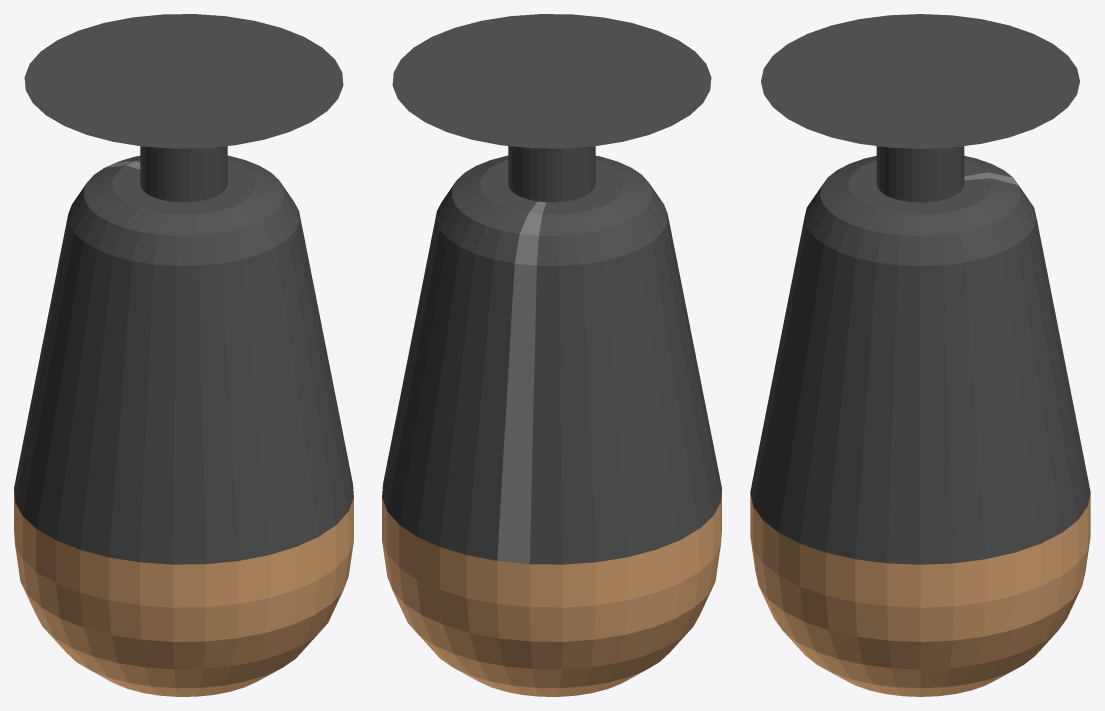
File: Light Bulb.fbx
3 views of the same model, side by side, from view 1: azimuth 30°, elevation 25°; view 2: azimuth 150°, elevation 25°; view 3: azimuth 270°, elevation 25° (orthographic).
Visible parts, largest first — view 1: Lamp; view 2: Lamp; view 3: Lamp.
Part boxes in pixels (x1,y1,x2,y2): Lamp: [14, 14, 353, 696]; Lamp: [382, 14, 721, 696]; Lamp: [750, 14, 1090, 696].
Size of the model in its own units: 6 by 11.58 by 6.
